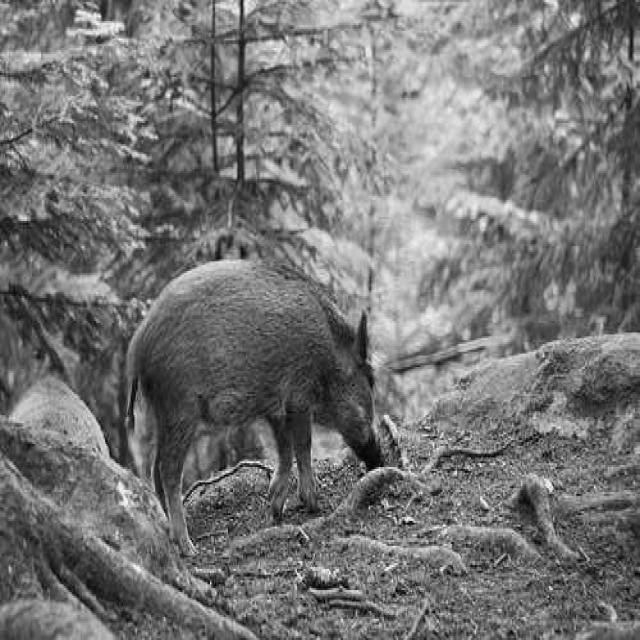boar: (122, 261, 384, 555)
